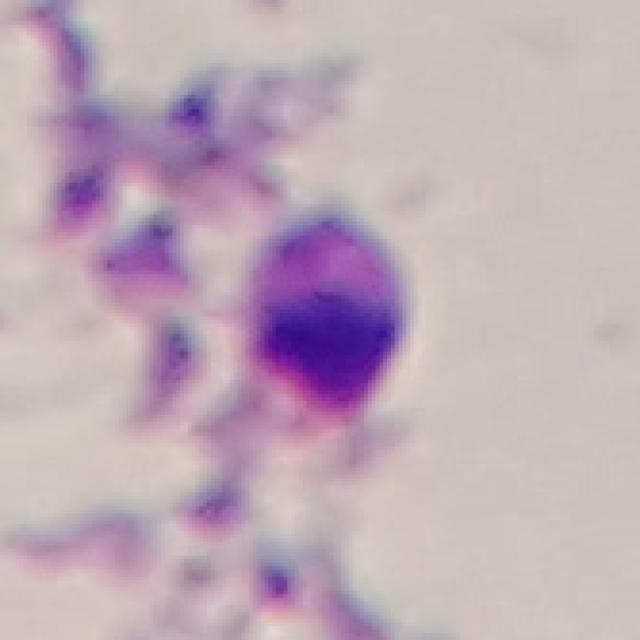non-sperm: (74, 49, 424, 492)
